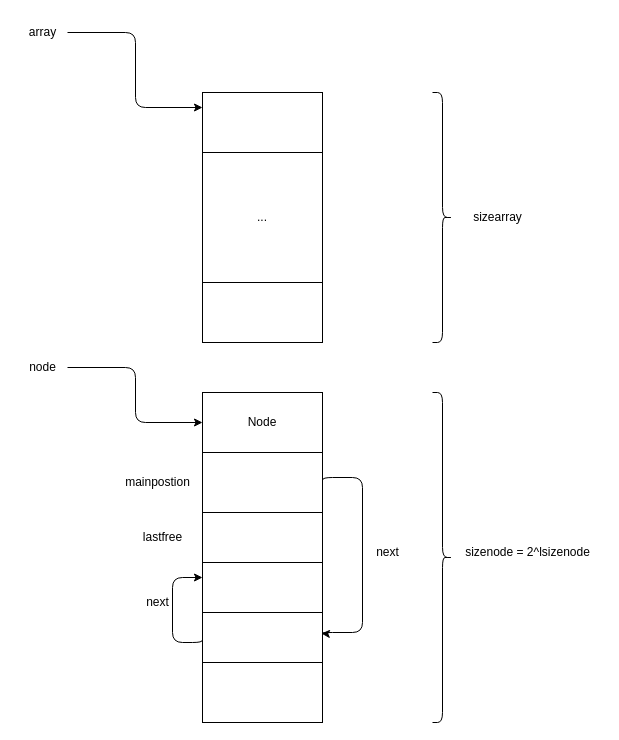
Image size: 619x740. Some labels were removed from this diagram. Here are the shapes that lost their labels. From the top down, the box of each, then its label:
(202, 92, 322, 152): TValue
(202, 452, 322, 512): i_key : TKey tvk : TValue // k值 next : int // 冲突链 i_val : TValue // v值
